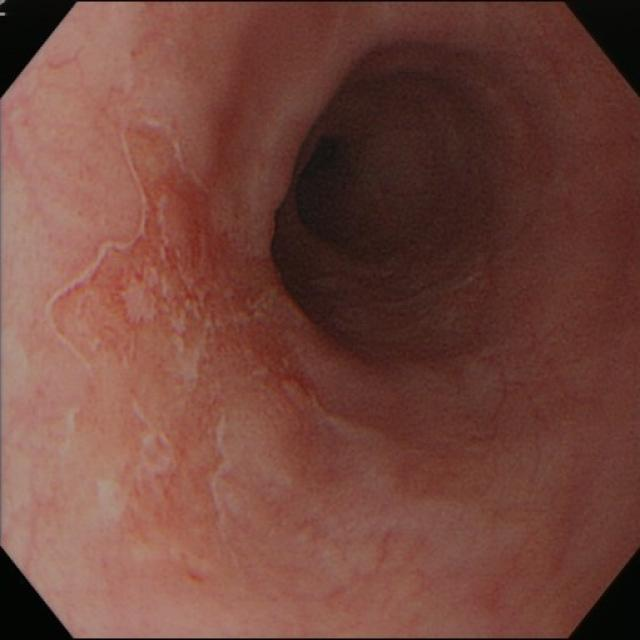A: (129, 191, 254, 402)
E: (288, 126, 413, 281)
